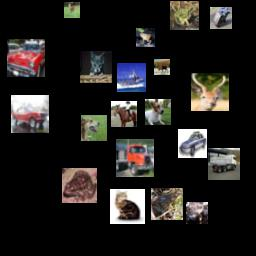automobile: (7, 39, 45, 77), (11, 95, 49, 133), (178, 129, 207, 158), (210, 7, 232, 29), (186, 202, 208, 224)
cat: (110, 189, 145, 224), (80, 51, 112, 83)
deer: (191, 73, 229, 111), (64, 2, 80, 18), (154, 59, 170, 75)
dog: (145, 99, 171, 125), (81, 115, 107, 141)
frog: (62, 168, 97, 203), (151, 188, 183, 220), (170, 1, 199, 30), (136, 28, 155, 47)
ship: (117, 63, 146, 92)
truck: (116, 139, 154, 177), (208, 148, 240, 180)
